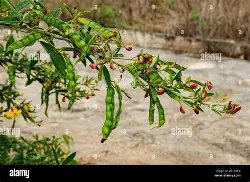crops: (0, 1, 238, 139), (94, 2, 123, 28)
